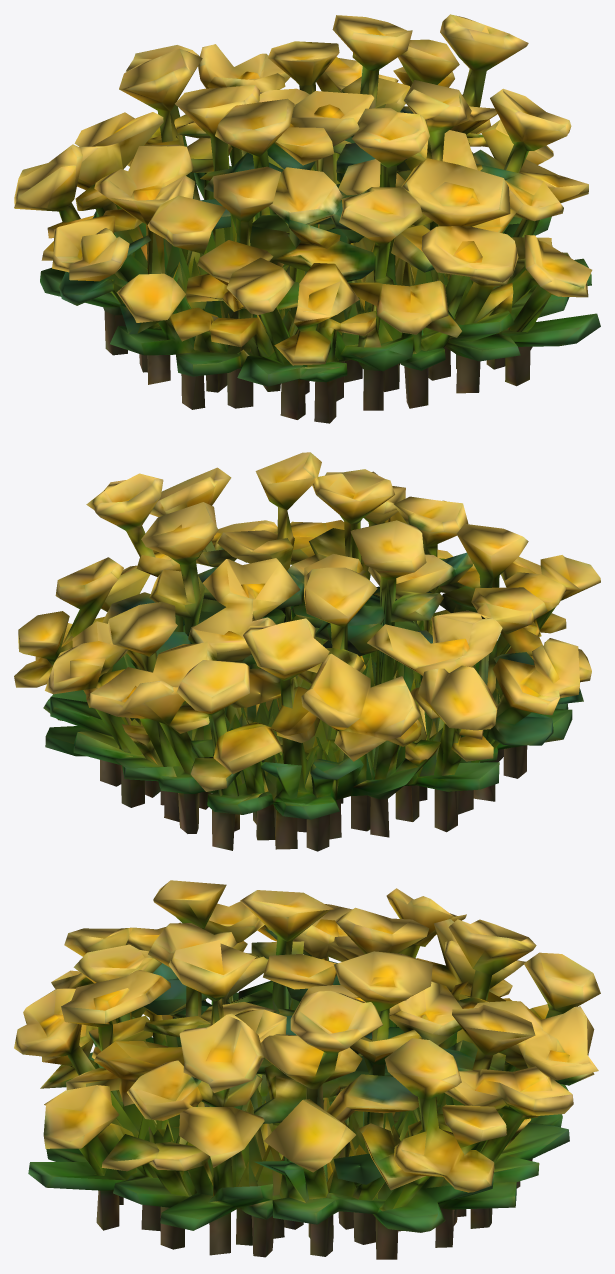
The model's file is flower-patch-yellow.glb.
3 renders of one model, top to bottom at view 1: azimuth 30°, elevation 25°; view 2: azimuth 150°, elevation 25°; view 3: azimuth 270°, elevation 25°, orthographic. The views are drawn at different scales.
Visible parts, largest first — view 1: node_0; view 2: node_0; view 3: node_0.
Part boxes in pixels (bbox=[...]): node_0: bbox=[14, 14, 600, 423]; node_0: bbox=[14, 452, 600, 851]; node_0: bbox=[14, 880, 600, 1259].
Size of the model in its own units: 0.7872 by 0.3988 by 0.7964.
Materials: 1 (1 with a texture image).
